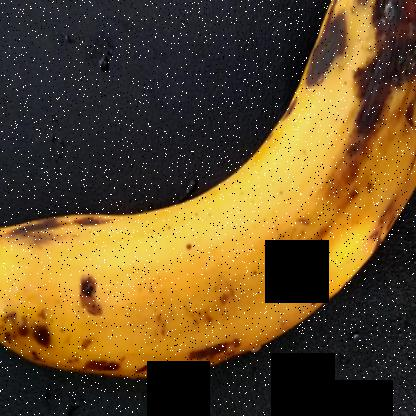overripe: (1, 0, 415, 377)
